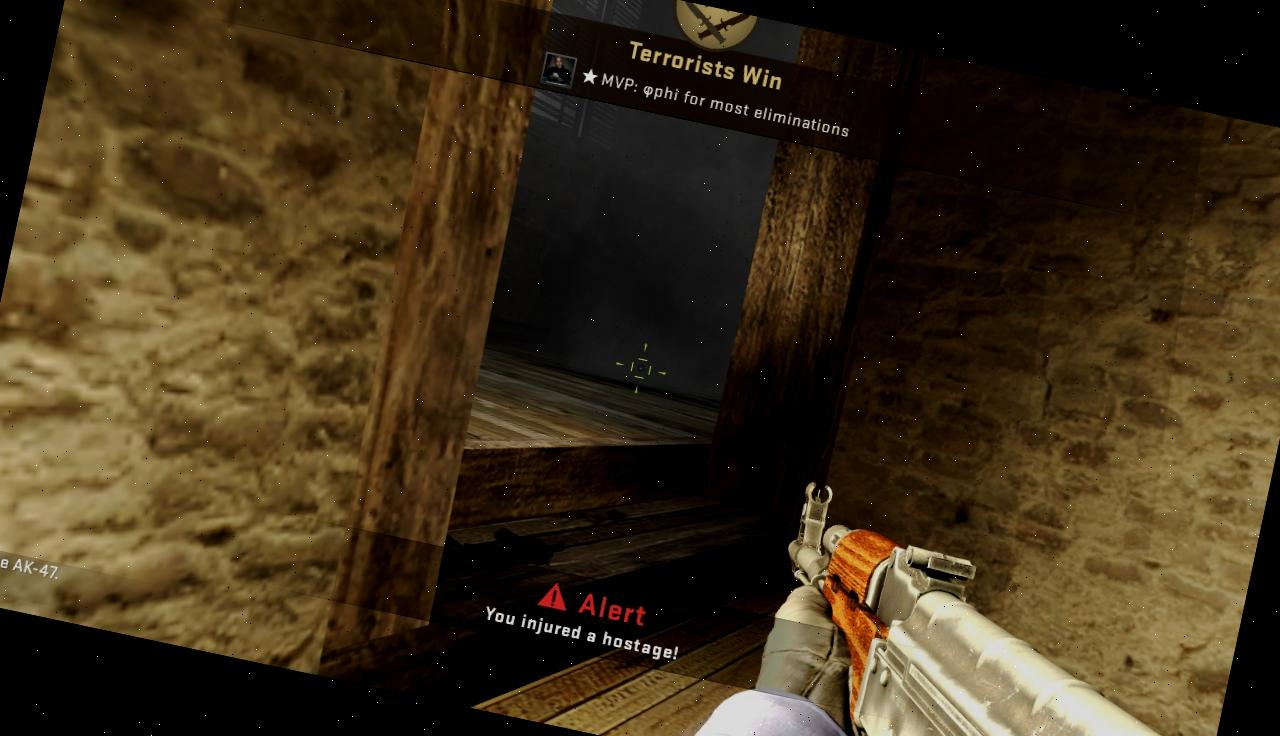rifle: (731, 477, 1250, 736)
